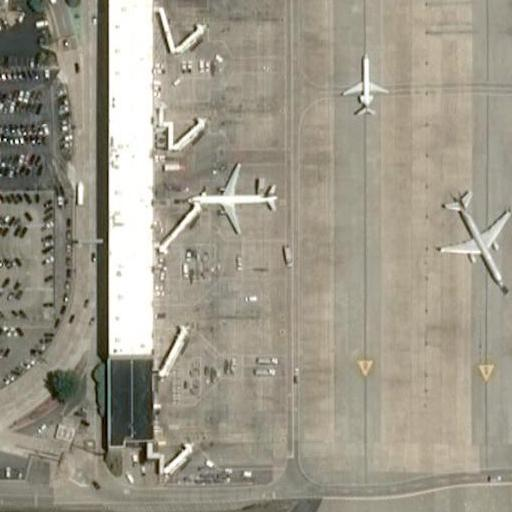Aircraft: (427, 187, 512, 293), (184, 164, 278, 232), (339, 57, 388, 112)
